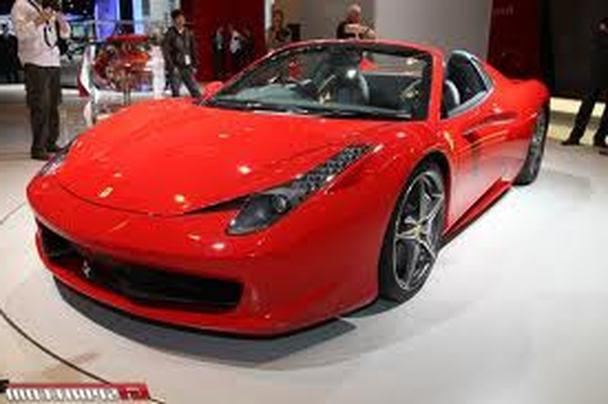Car: (18, 27, 579, 346)
